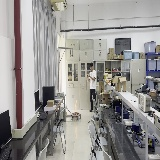fire: (72, 99, 78, 114)
